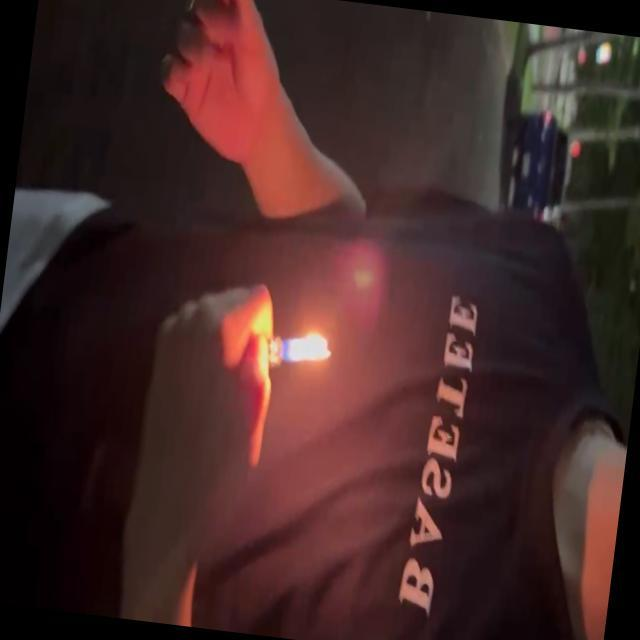Fire: (277, 325, 338, 374)
